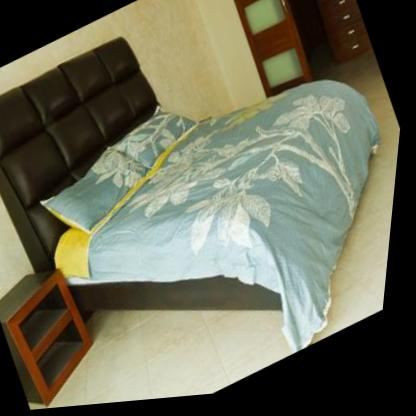Bed: (0, 23, 412, 415)
